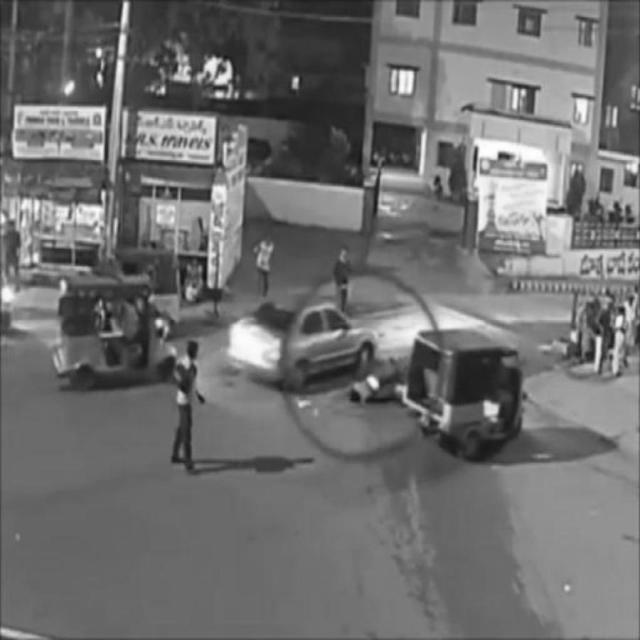accident: (230, 303, 417, 407)
person: (169, 343, 207, 483), (253, 228, 277, 296), (335, 247, 353, 313)
vehicle: (408, 320, 530, 460), (53, 273, 175, 387)
